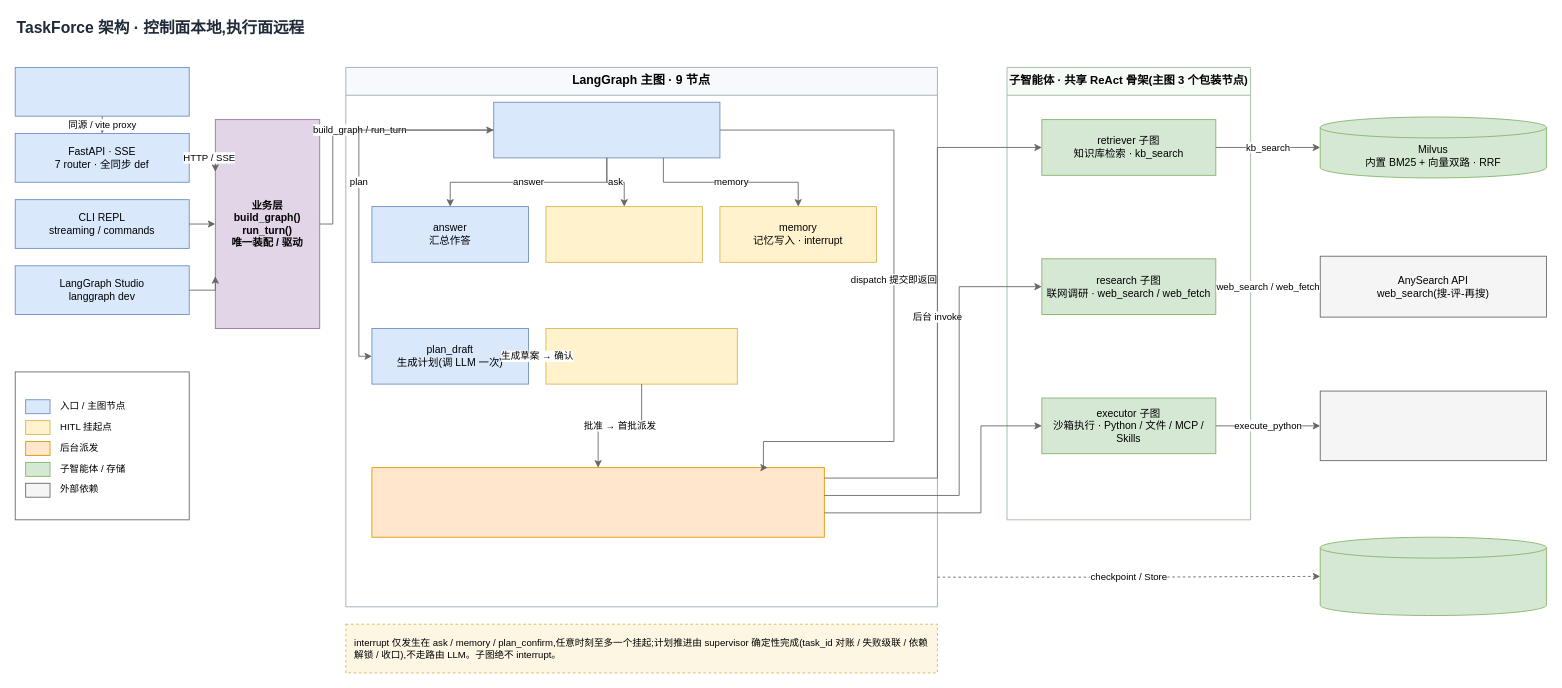
Image size: 1562x688. Some labels were removed from this diagram. The box of each missing label's shape, as (x1, y1, x2, y2) in pixels:
ask 问询 · interrupt: (545, 206, 703, 262)
plan_confirm 计划确认 · interrupt: (545, 328, 737, 384)
PostgreSQL + pgvector checkpoint(短期)+ Store(长期记忆): (1319, 536, 1546, 616)
supervisor 主智能体 结构化路由 · 唯一叙事者: (493, 101, 720, 158)
TaskManager(运行时,非图节点) 后台线程池 MAX_WORKERS=3 submit 即返回 · drain_done() 回收: (371, 467, 824, 537)
Web 工作台 Vue 3 + Vite + Pinia: (14, 67, 189, 116)
图例: (14, 371, 189, 520)
腾讯云 AGS 沙箱 E2B SDK · execute_python / 文件读写: (1319, 390, 1546, 461)
